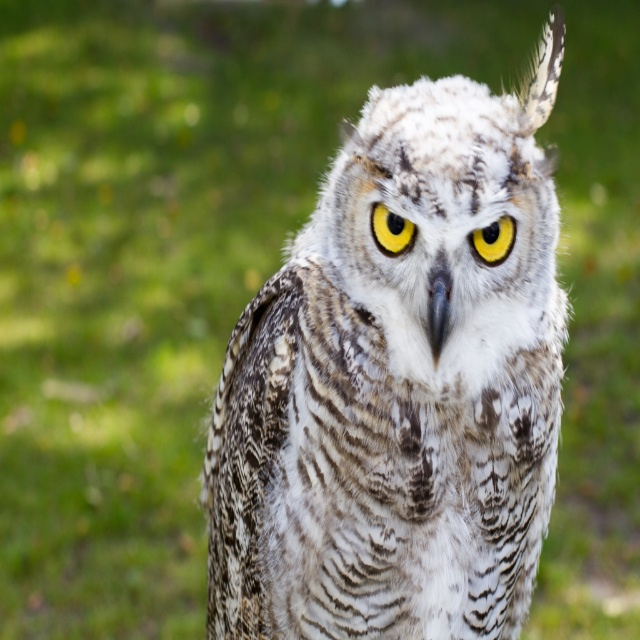Owl: (194, 7, 569, 639)
